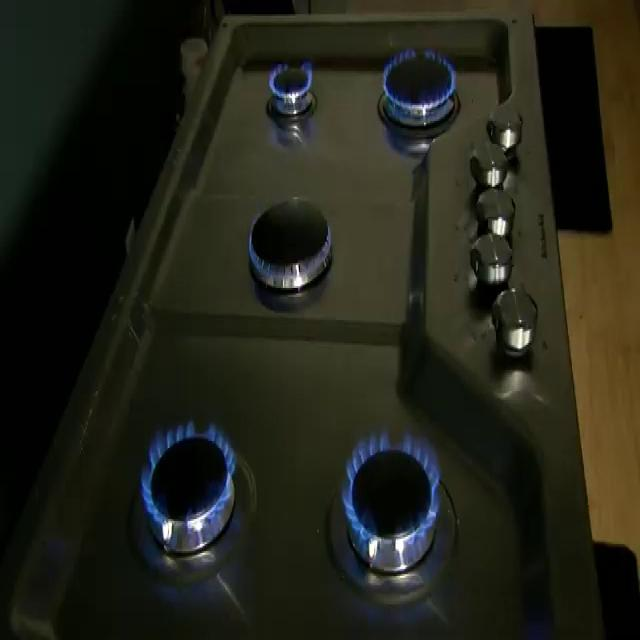fire: (292, 319, 464, 613), (111, 402, 261, 588), (237, 178, 366, 322), (365, 0, 468, 156), (251, 17, 329, 151)
